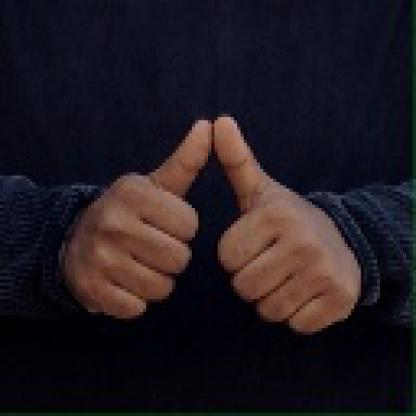A: (60, 110, 364, 330)
